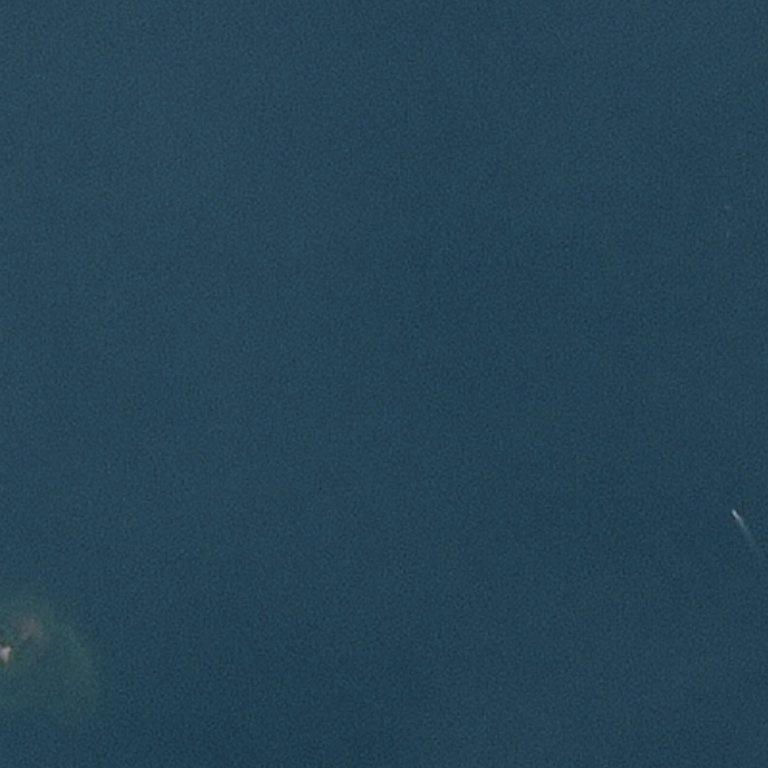ship: (692, 508, 706, 523)
